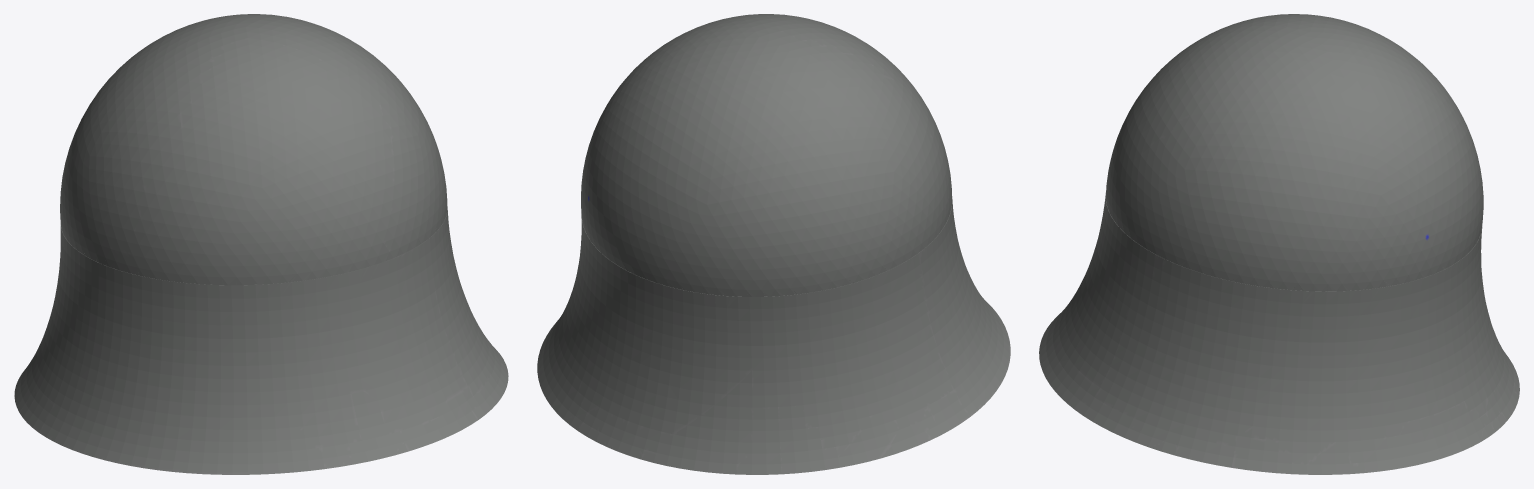
Rendered from Blob.fbx.
3 renders of one model, left to right at view 1: azimuth 30°, elevation 25°; view 2: azimuth 150°, elevation 25°; view 3: azimuth 270°, elevation 25°, orthographic. The views are drawn at different scales.
Parts seen in each view (by area): view 1: node_id4; view 2: node_id4; view 3: node_id4.
Boxes of the visible parts, <box> form: node_id4: <box>14,14,508,474</box>; node_id4: <box>537,14,1010,474</box>; node_id4: <box>1039,14,1519,474</box>.
Bounding box in the file's own units: 0.5119 × 0.4185 × 0.5102.
Materials: 1 (1 with a texture image).
